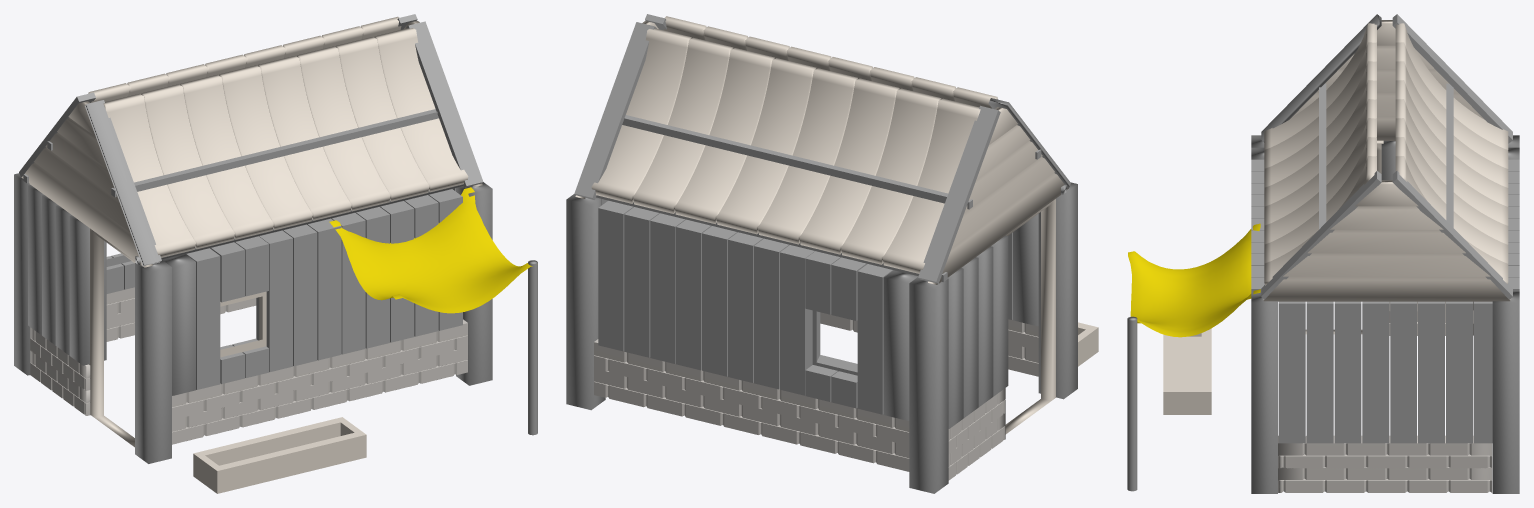
The model's file is house1.fbx.
3 views of the same model, side by side, from view 1: azimuth 30°, elevation 25°; view 2: azimuth 150°, elevation 25°; view 3: azimuth 270°, elevation 25° (orthographic). The views are drawn at different scales.
Parts seen in each view (by area): view 1: pCube84; view 2: pCube84; view 3: pCube84.
Boxes of the visible parts, x1,y1,x2,y2 form: pCube84: (14,14,537,493); pCube84: (566,14,1098,493); pCube84: (1127,14,1519,493).
Size of the model in its own units: 1.95 by 1.72 by 1.93.
